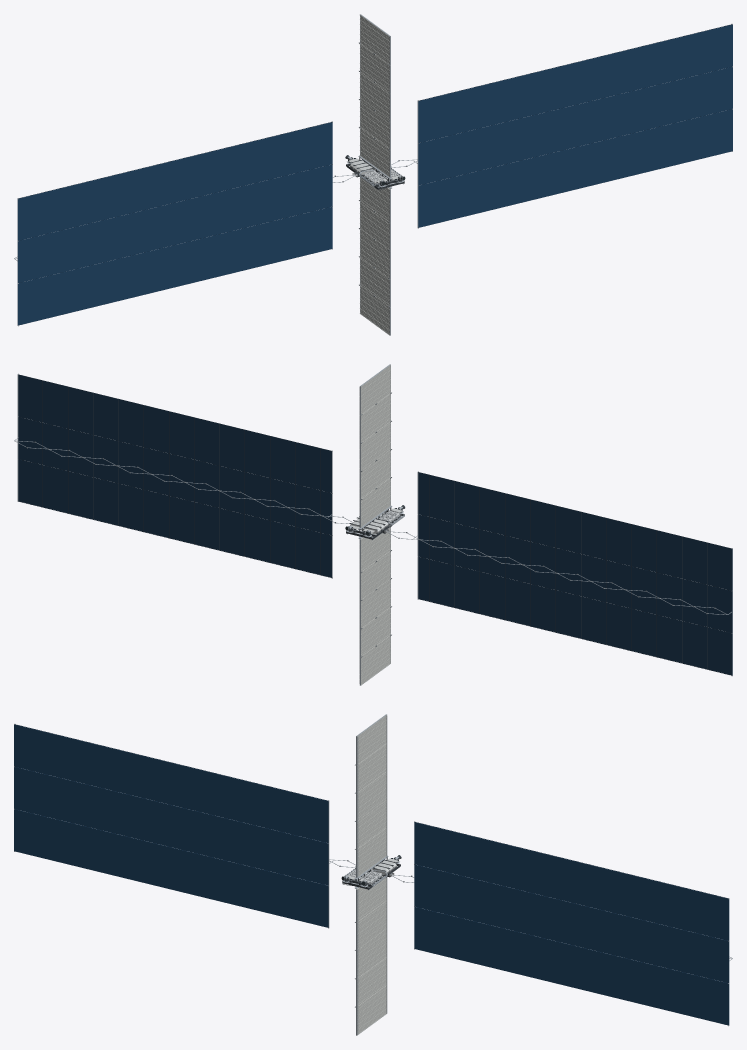
Rendered from satellite.glb.
3 renders of one model, top to bottom at view 1: azimuth 30°, elevation 25°; view 2: azimuth 150°, elevation 25°; view 3: azimuth 330°, elevation 25°, orthographic.
Visible parts, largest first — view 1: 01 | Solar arrays, 02 | Radiator details [V2], 04 | Scissor wing supports [V2], 03 | Equipment and cold plates [V2]; view 2: 01 | Solar arrays, 02 | Radiator details [V2], 04 | Scissor wing supports [V2], 03 | Equipment and cold plates [V2]; view 3: 01 | Solar arrays, 02 | Radiator details [V2], 04 | Scissor wing supports [V2], 03 | Equipment and cold plates [V2].
Boxes of the visible parts, left/top/right/bottom form: 01 | Solar arrays: left=17, top=24, right=732, bottom=325; 02 | Radiator details [V2]: left=358, top=14, right=390, bottom=335; 04 | Scissor wing supports [V2]: left=14, top=23, right=732, bottom=326; 03 | Equipment and cold plates [V2]: left=346, top=155, right=404, bottom=190; 01 | Solar arrays: left=18, top=374, right=732, bottom=675; 02 | Radiator details [V2]: left=359, top=364, right=391, bottom=685; 04 | Scissor wing supports [V2]: left=14, top=373, right=732, bottom=676; 03 | Equipment and cold plates [V2]: left=346, top=505, right=404, bottom=540; 01 | Solar arrays: left=14, top=724, right=729, bottom=1025; 02 | Radiator details [V2]: left=355, top=714, right=387, bottom=1035; 04 | Scissor wing supports [V2]: left=14, top=723, right=732, bottom=1026; 03 | Equipment and cold plates [V2]: left=342, top=855, right=400, bottom=890.
Size of the model in its own units: 1 by 0.4 by 0.0902.
